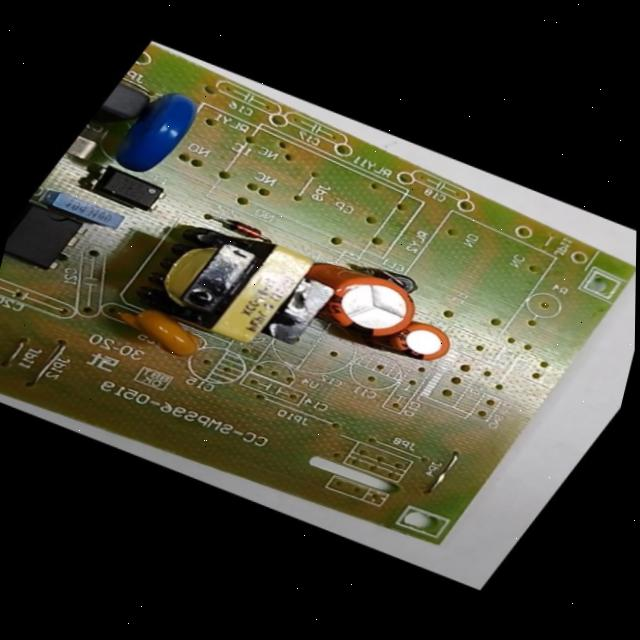Cap1: (311, 261, 431, 350)
Cap2: (385, 314, 459, 368)
MOSFET: (1, 197, 92, 279)
Mov: (112, 79, 209, 186)
Transformer: (121, 199, 357, 370)
